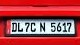numberplate: (6, 17, 75, 35)
